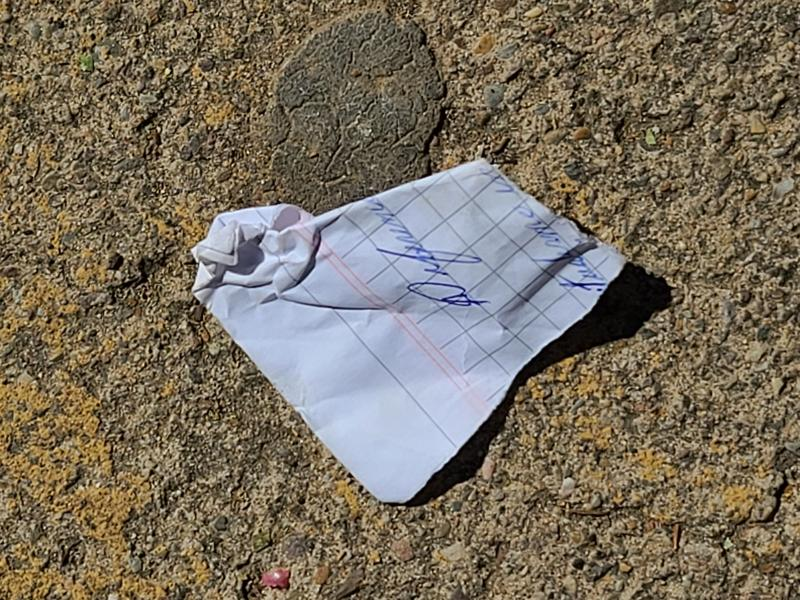papel: (191, 161, 627, 506)
